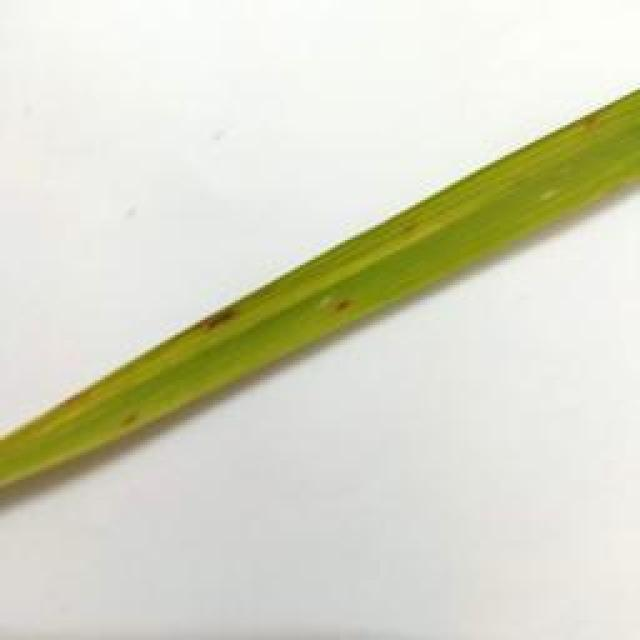Brown_Spot: (180, 299, 247, 341), (572, 90, 609, 135), (326, 293, 358, 315), (106, 417, 150, 433), (400, 221, 431, 243)
